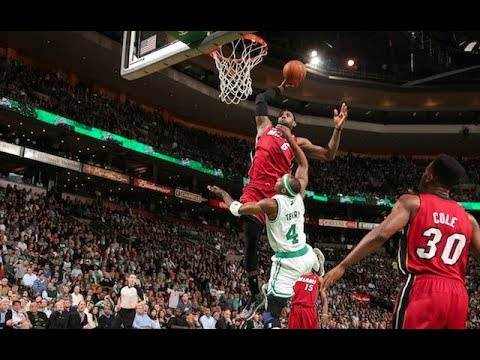ball: (279, 54, 309, 89)
basket: (201, 29, 268, 109)
shoot: (232, 50, 356, 310)
